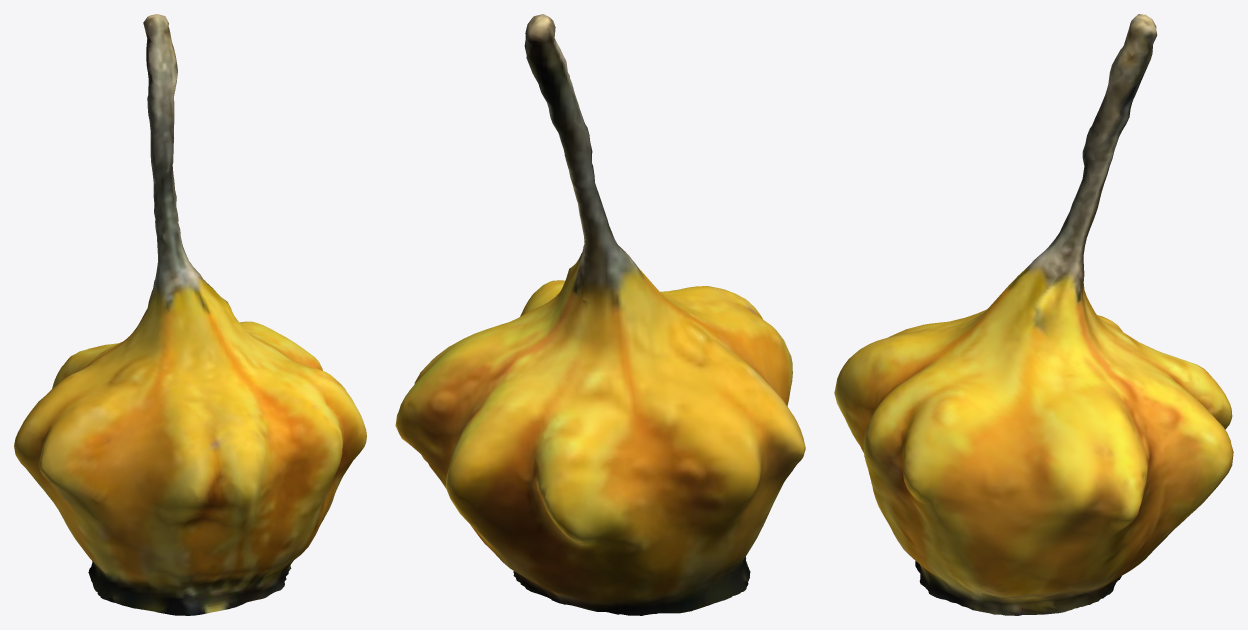
Rendered from gourd_web.glb.
The picture shows the model from 3 angles, left to right: view 1: azimuth 30°, elevation 25°; view 2: azimuth 150°, elevation 25°; view 3: azimuth 270°, elevation 25°; orthographic projection. The views are drawn at different scales.
Parts seen in each view (by area): view 1: model.001; view 2: model.001; view 3: model.001.
Boxes of the visible parts, box(x1,y1,x2,y2) form: model.001: box(14, 14, 366, 615); model.001: box(395, 14, 805, 615); model.001: box(834, 14, 1233, 615).
Bounding box in the file's own units: 0.8971 × 1.43 × 0.919.
2 materials, 2 textured.
